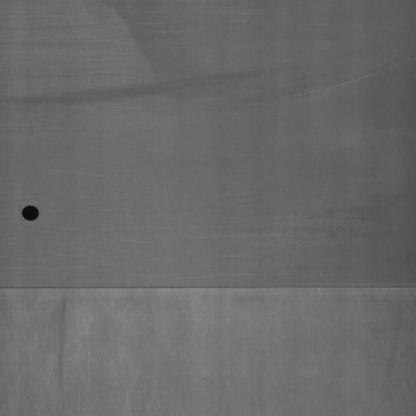punching_hole: (19, 202, 45, 226)
welding_line: (2, 270, 416, 300)
